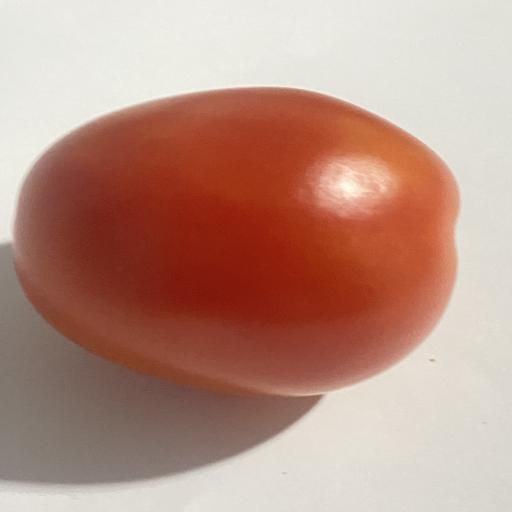ripe: (13, 87, 458, 396)
